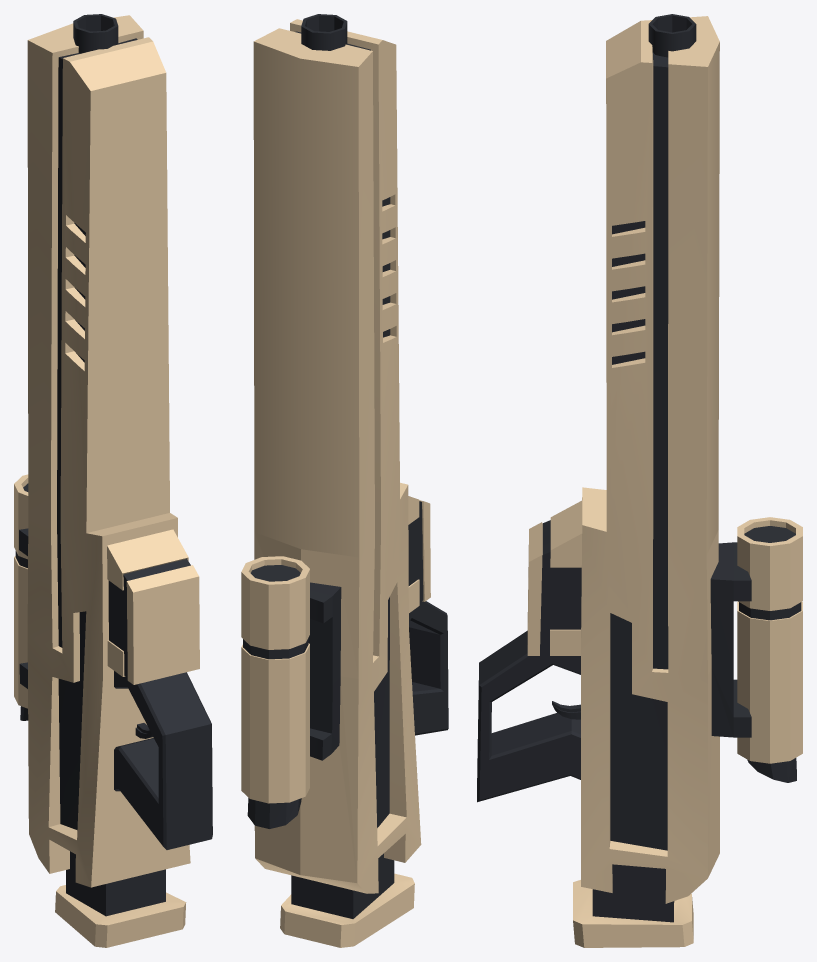
File: low poly scifi gun037.fbx
3 renders of one model, left to right at view 1: azimuth 30°, elevation 25°; view 2: azimuth 150°, elevation 25°; view 3: azimuth 270°, elevation 25°, orthographic. The views are drawn at different scales.
Parts seen in each view (by area): view 1: low poly scifi gun037; view 2: low poly scifi gun037; view 3: low poly scifi gun037.
Boxes of the visible parts, x1,y1,x2,y2 form: low poly scifi gun037: (14, 14, 212, 947); low poly scifi gun037: (241, 14, 448, 947); low poly scifi gun037: (477, 14, 802, 947).
Bounding box in the file's own units: 3.2 × 26.48 × 8.64.
